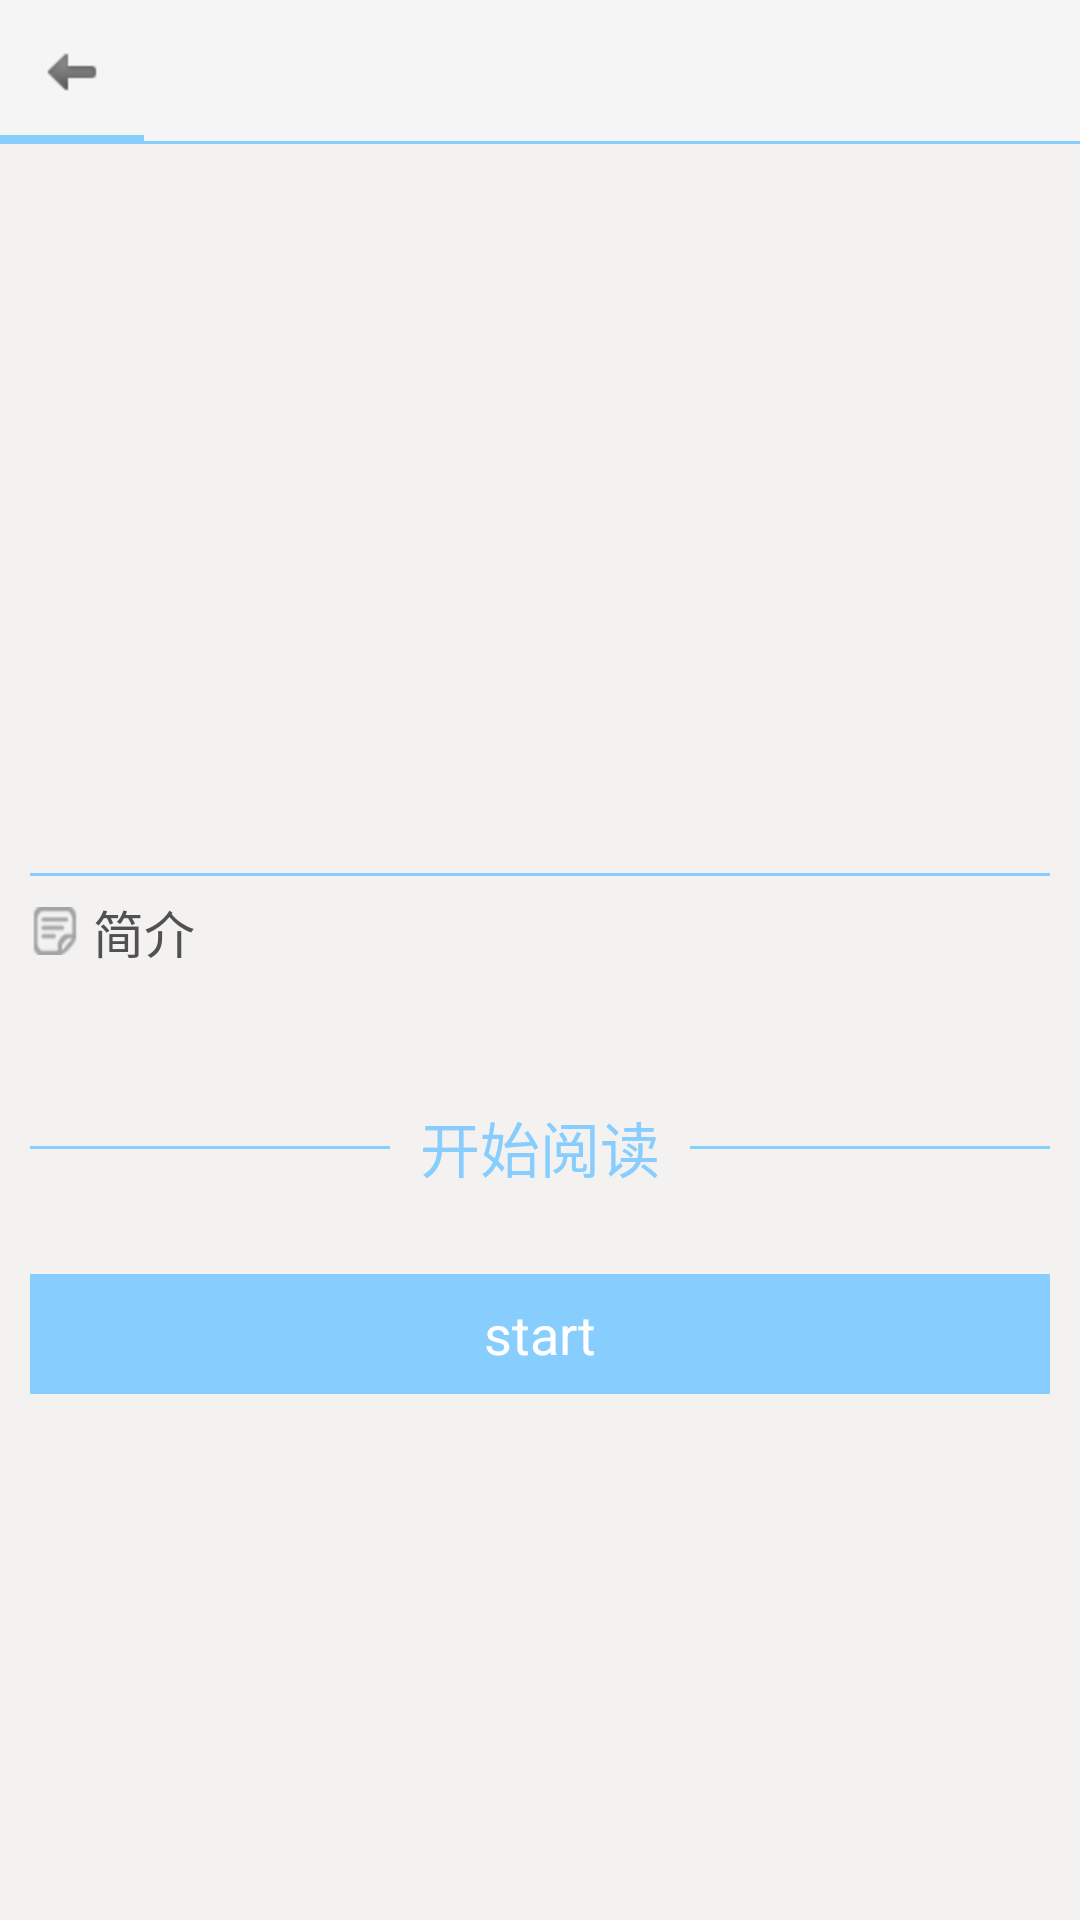

Screen size 1080 × 1920. Icon name, then its center in pixels as (x=x, y=y):
back: (x=72, y=72)
